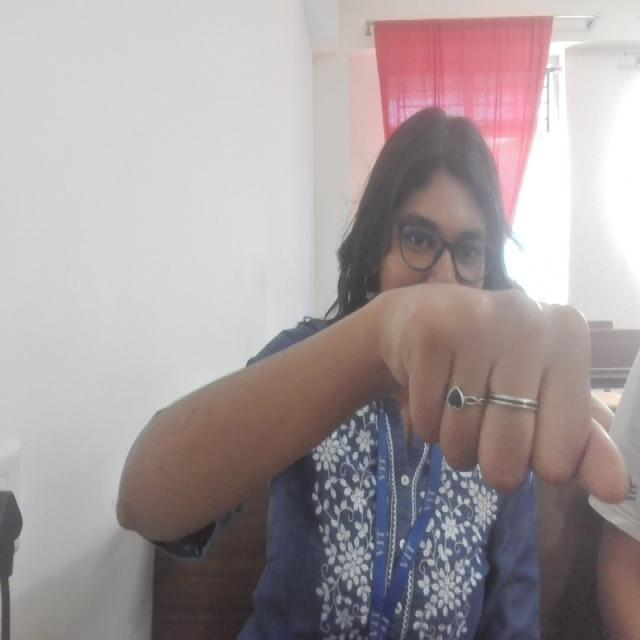yes: (392, 280, 632, 506)
